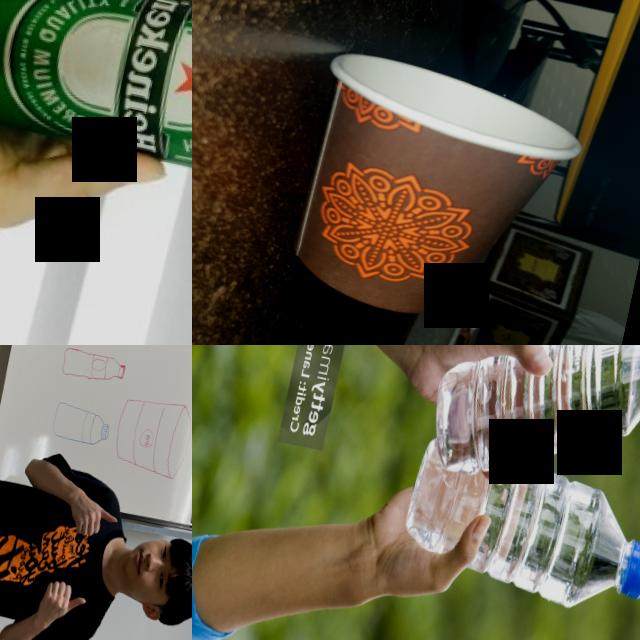bottle: (388, 439, 640, 628), (416, 345, 640, 517)
can: (0, 0, 192, 209)
cup: (274, 39, 596, 344)
